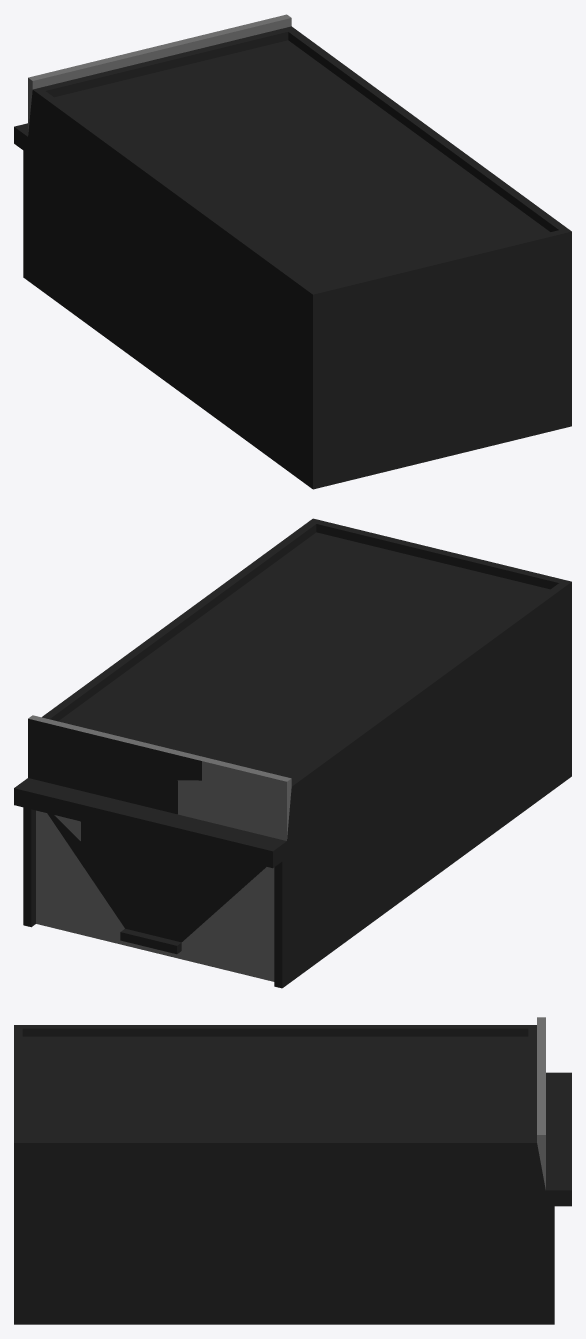
The model's file is obj_store10.dae.
The picture shows the model from 3 angles, top to bottom: view 1: azimuth 30°, elevation 25°; view 2: azimuth 150°, elevation 25°; view 3: azimuth 270°, elevation 25°; orthographic projection. The views are drawn at different scales.
Visible parts, largest first — view 1: obj_store10; view 2: obj_store10; view 3: obj_store10.
Part boxes in pixels (left/top/right/bottom): obj_store10: left=14, top=14, right=571, bottom=489; obj_store10: left=14, top=518, right=571, bottom=988; obj_store10: left=14, top=1017, right=571, bottom=1324.
Bounding box in the file's own units: 3.2 × 6.4 × 2.4.
